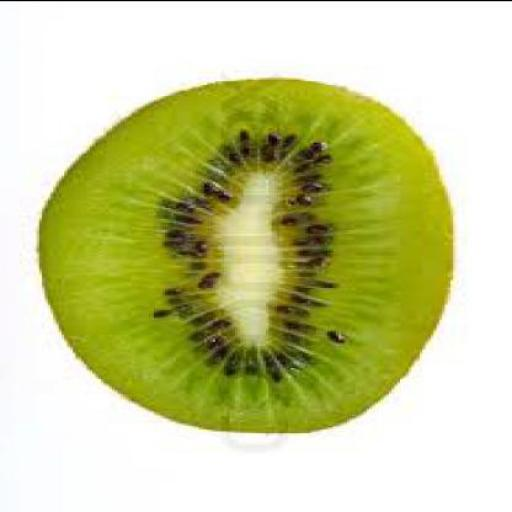biodegradable: (40, 80, 456, 436)
